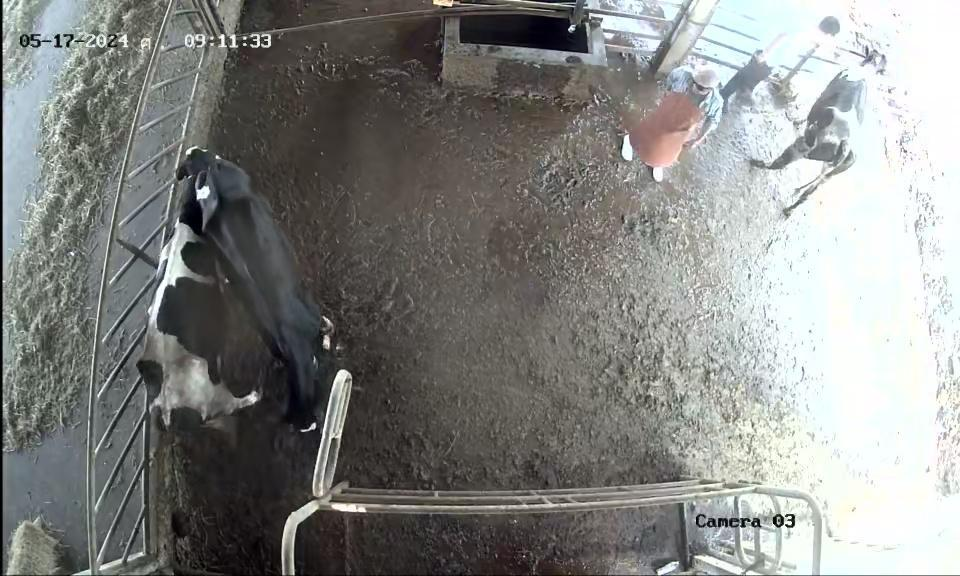stand: (192, 142, 334, 444), (136, 174, 253, 447), (748, 40, 890, 232)
